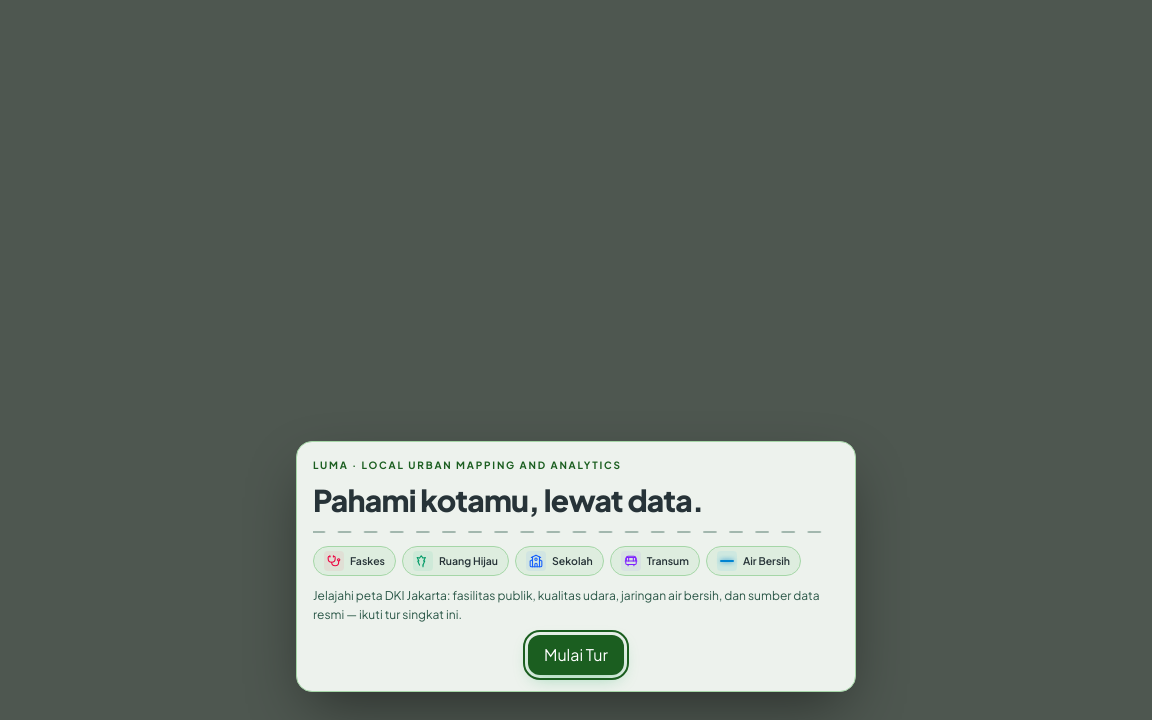
mandatory onboarding › the hero CTA advances to the standard spotlight step card
The width and height of the screenshot is (1152, 720).
Click the button "Mulai Tur": (576, 654) [528,634,624,674]
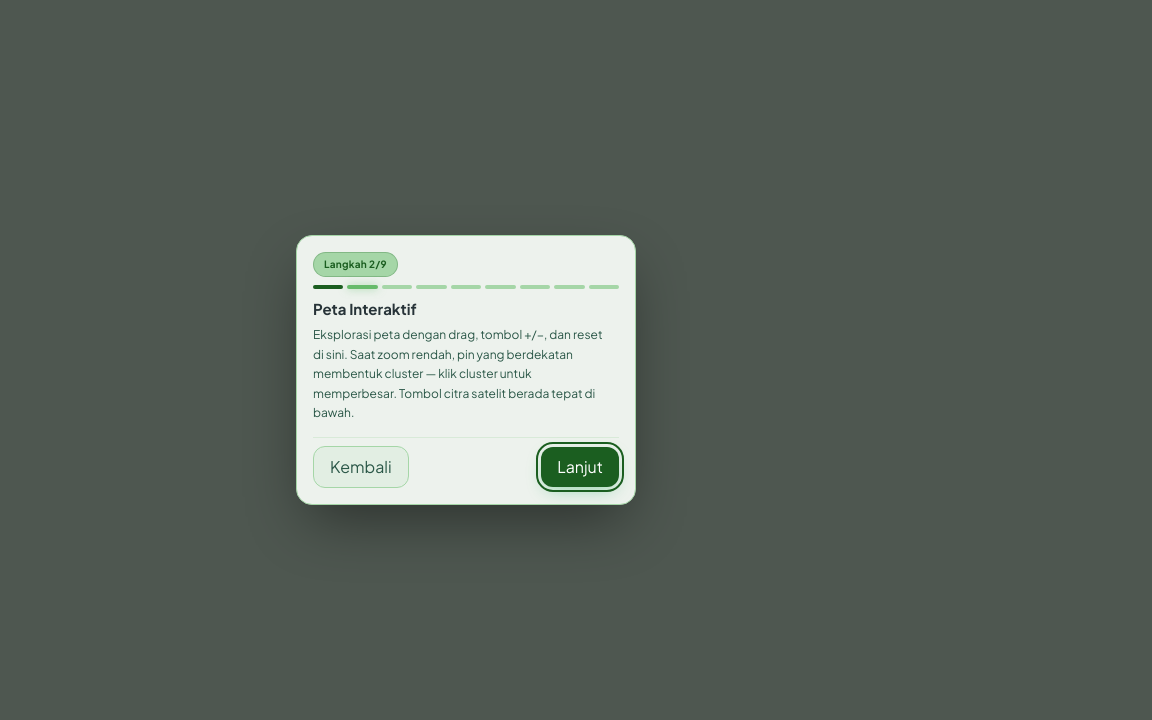
Expected: the dialog has attribute data-variant="default", [296,234,636,505]
Expected: the dialog has attribute data-step="2", [296,234,636,505]
